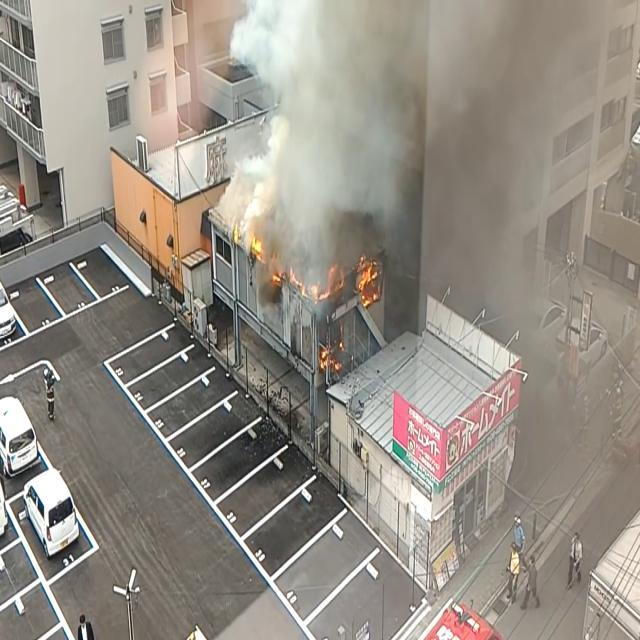Fire: (354, 246, 384, 310), (247, 230, 266, 262)
Smoke: (237, 0, 596, 311)
